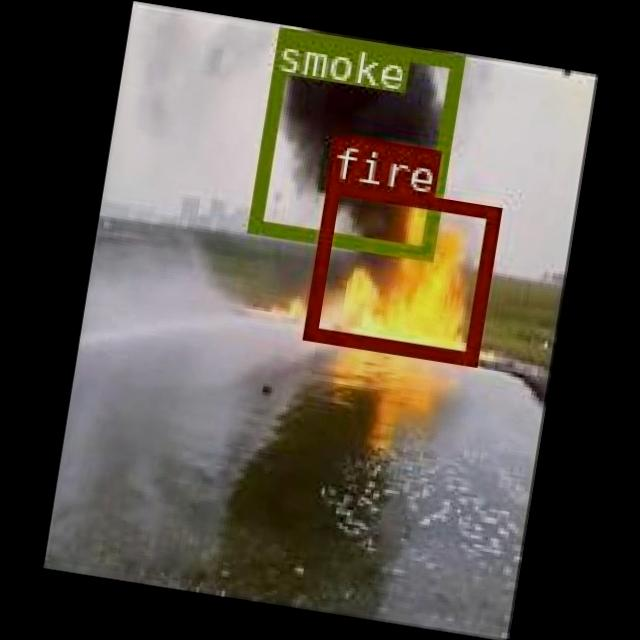fire: (301, 177, 499, 362)
smoke: (246, 26, 461, 258)
